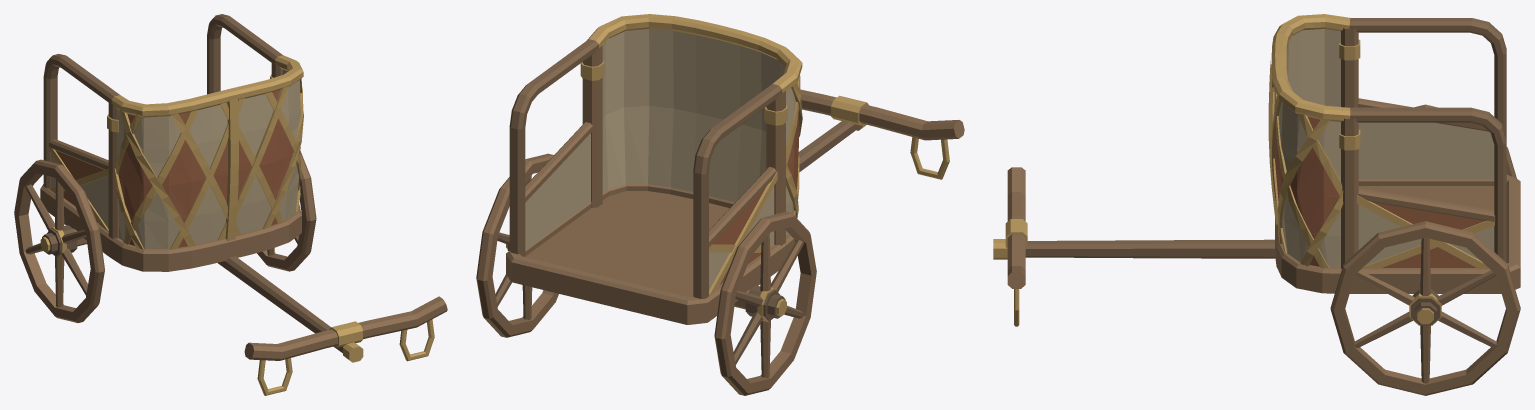
Rendered from two-horse-chariot-ef39c3.glb.
3 views of the same model, side by side, from view 1: azimuth 30°, elevation 25°; view 2: azimuth 150°, elevation 25°; view 3: azimuth 270°, elevation 25° (orthographic). The views are drawn at different scales.
Parts seen in each view (by area): view 1: car, car-bronze, wheel-l-timber, wheel-r-timber; view 2: car, wheel-l-timber, car-bronze, wheel-r-timber; view 3: car, wheel-r-timber, car-bronze.
Boxes of the visible parts, box(x1,y1,x2,y2) form: car: box(40, 14, 447, 360); car-bronze: box(49, 55, 434, 395); wheel-l-timber: box(14, 159, 104, 322); wheel-r-timber: box(257, 151, 316, 271); car: box(506, 29, 964, 324); wheel-l-timber: box(714, 211, 816, 395); car-bronze: box(580, 14, 949, 294); wheel-r-timber: box(476, 153, 558, 337); car: box(1007, 18, 1520, 293); wheel-r-timber: box(1330, 221, 1520, 395); car-bronze: box(993, 14, 1494, 326).
Size of the model in its own units: 1.5 by 1.47 by 2.5.
